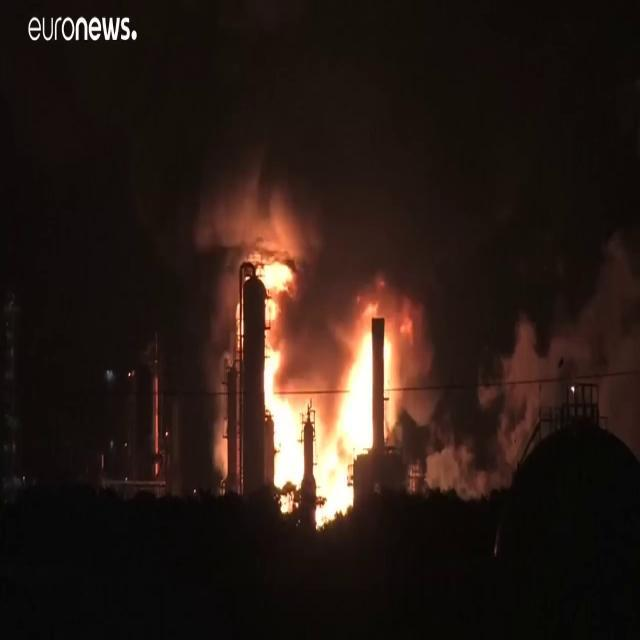Fire: (254, 245, 408, 522)
